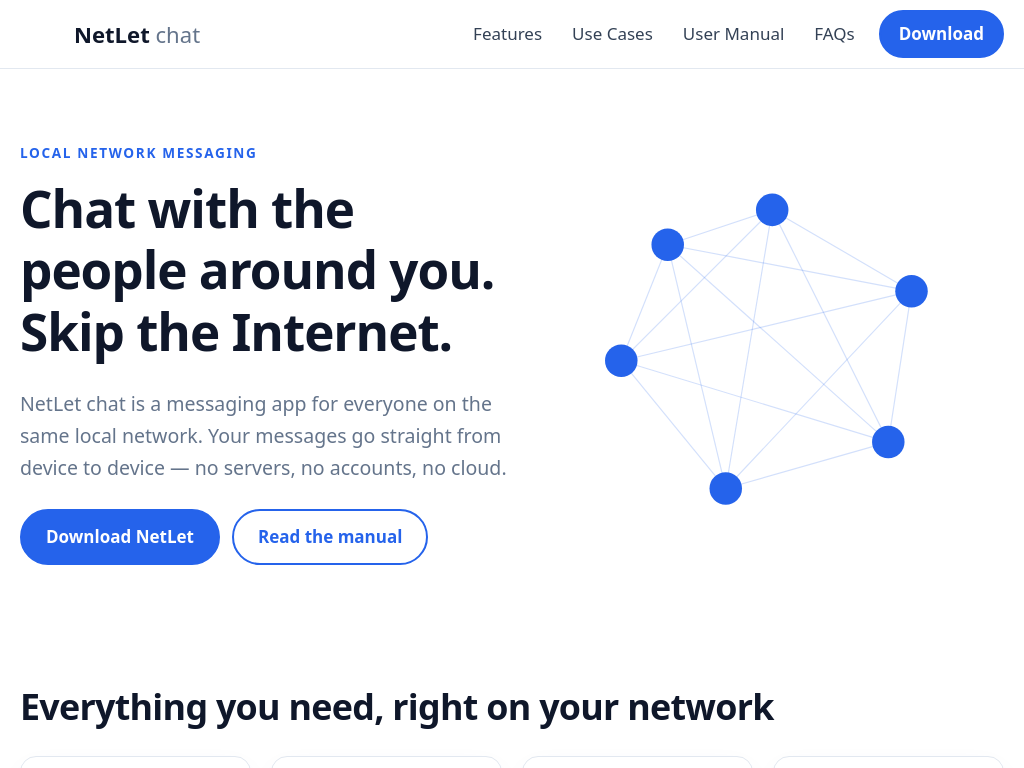
Test: navigation › navigates between pages and scrolls to top
Click the link "FAQs" at (834, 34), box x1=814 y1=22 x2=855 y2=45
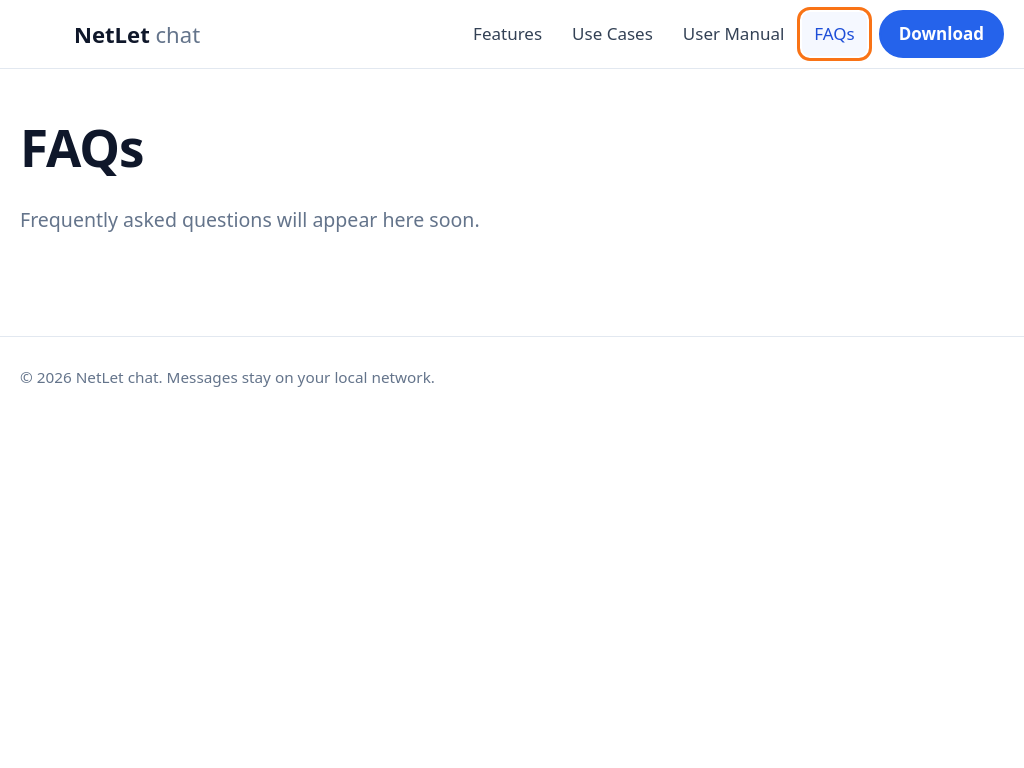
Check: the heading "FAQs" is shown, box x1=20 y1=112 x2=144 y2=182
